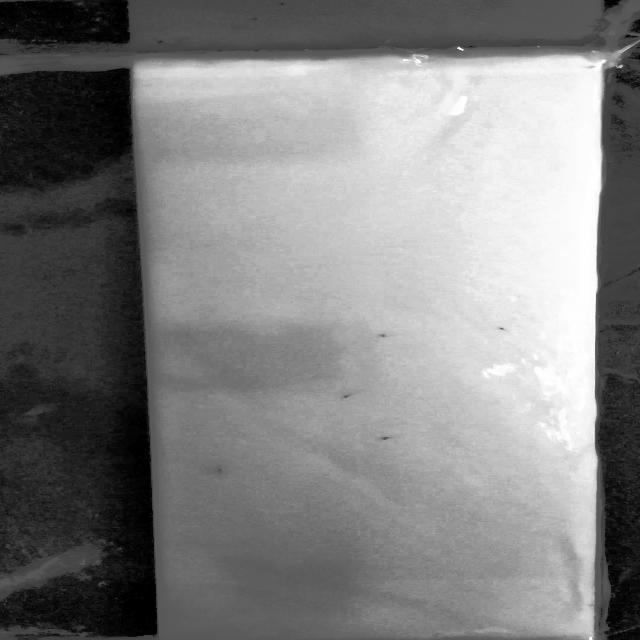shrimp: (205, 466, 233, 477), (490, 323, 513, 333), (374, 436, 403, 443), (342, 390, 360, 400), (373, 332, 398, 339)
